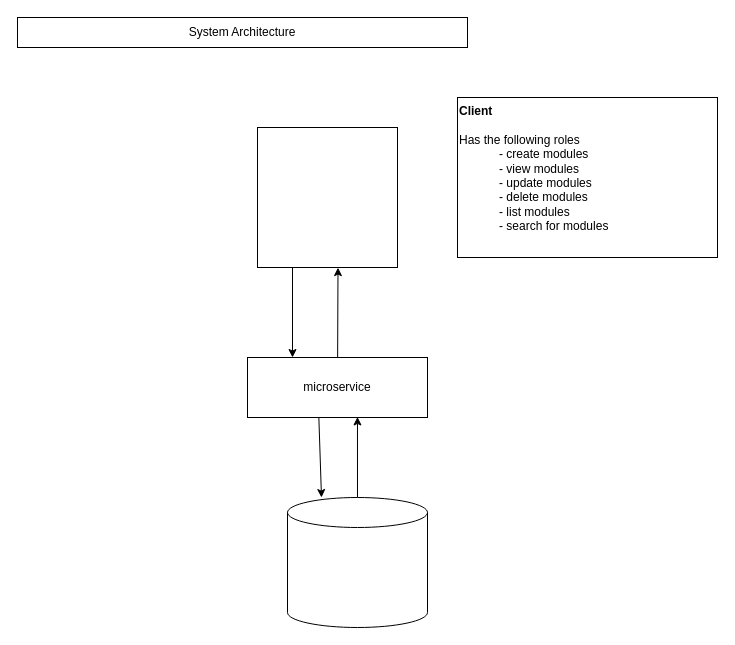
Image size: 735x645. Some labels were removed from this diagram. Here are the shapes that lost their labels. From the top down, the centre of each, then its label:
At point (327, 197): "client".
At point (357, 562): "modules db".
